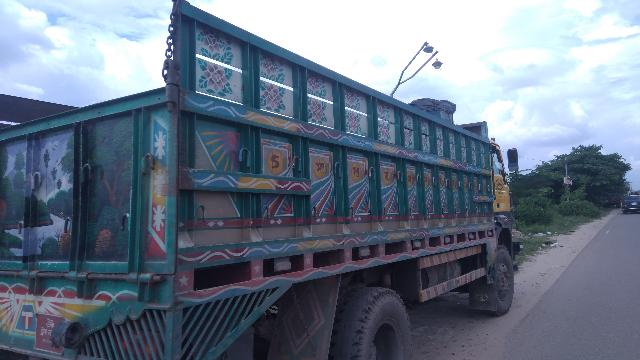car: (617, 187, 640, 215)
truck: (0, 1, 522, 360)
